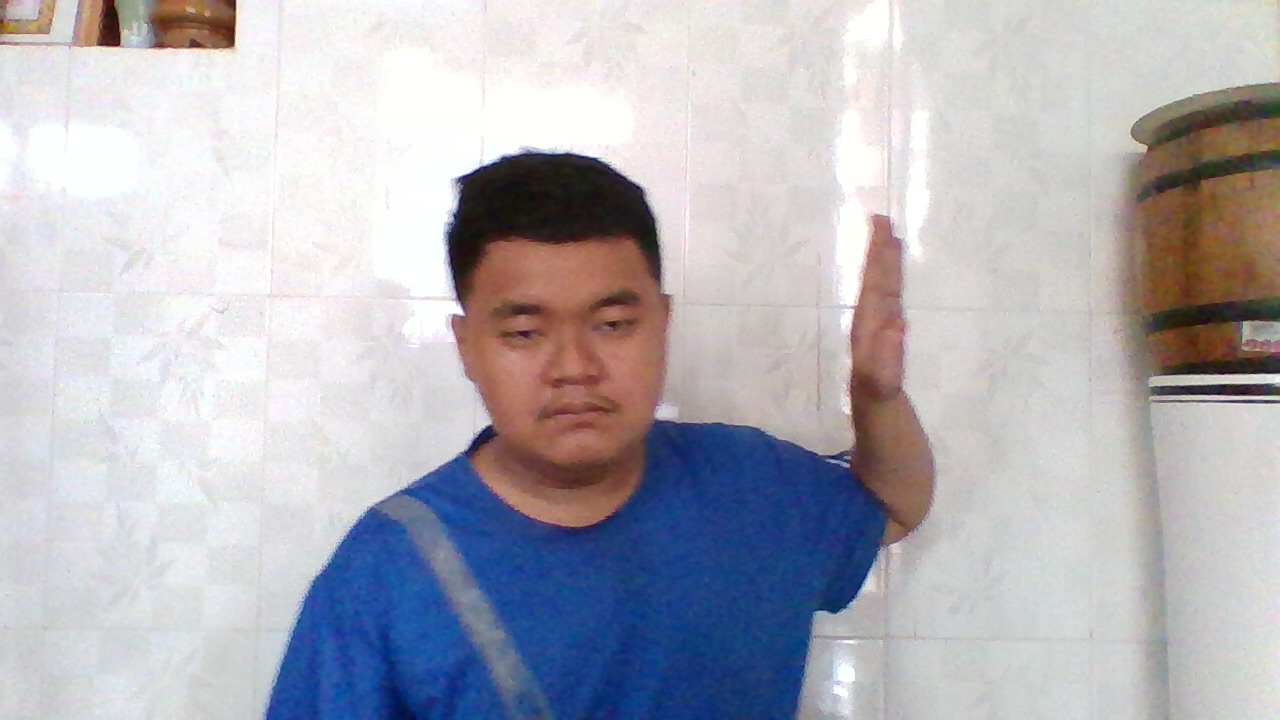B: (854, 208, 915, 407)
